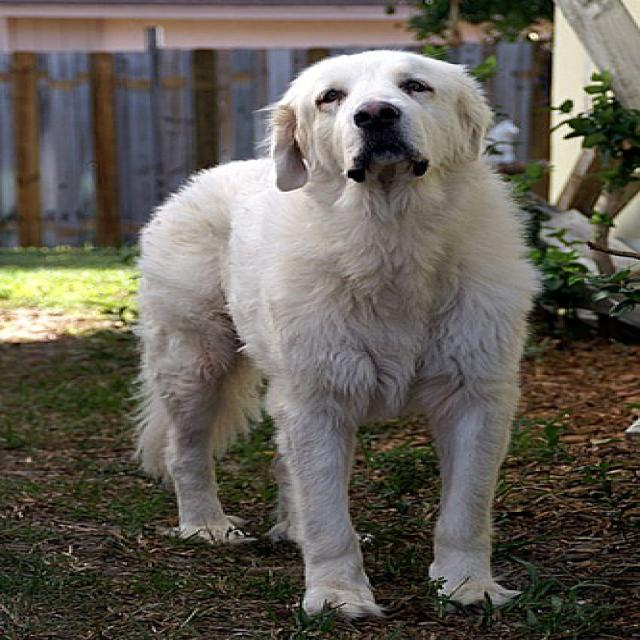dog-great_pyrenees: (121, 38, 550, 620)
